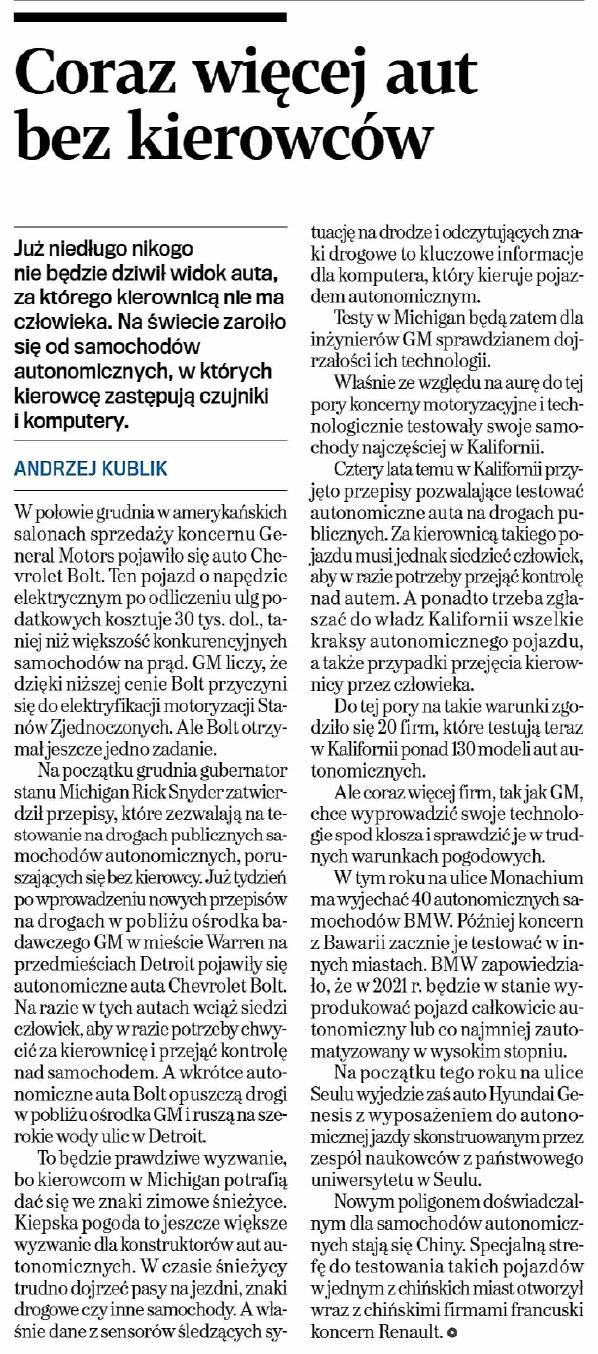author: (9, 451, 181, 486)
body: (303, 221, 596, 1345), (4, 496, 299, 1349)
lead: (6, 233, 293, 436)
title: (4, 30, 519, 180)
